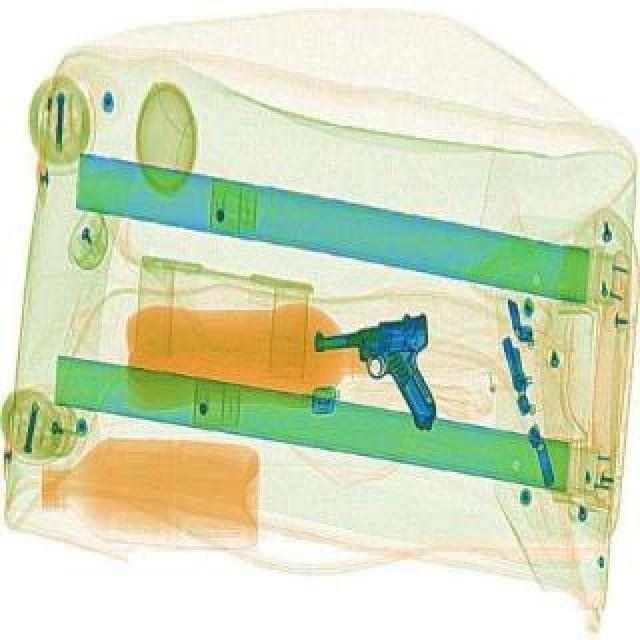gun: (314, 308, 448, 442)
